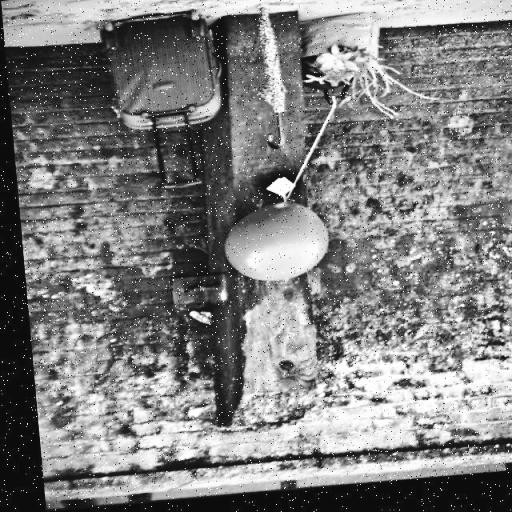balloon: (216, 199, 329, 293)
